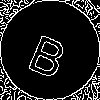B: (25, 25, 74, 80)
